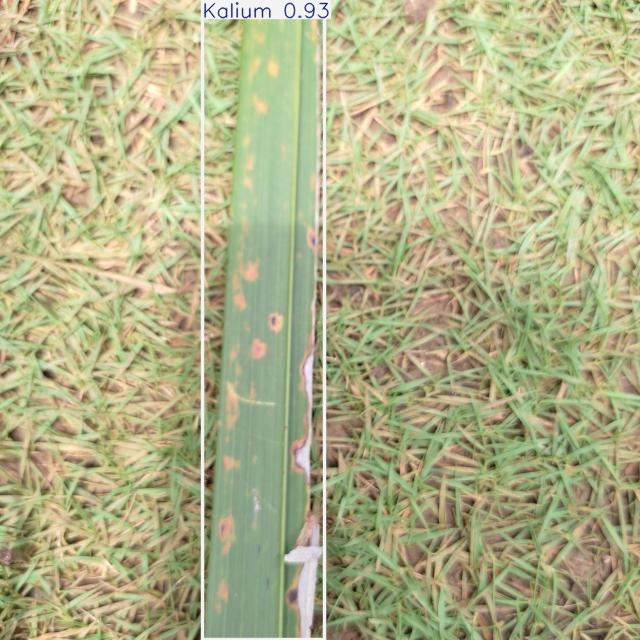Kalium: (202, 0, 324, 640)
